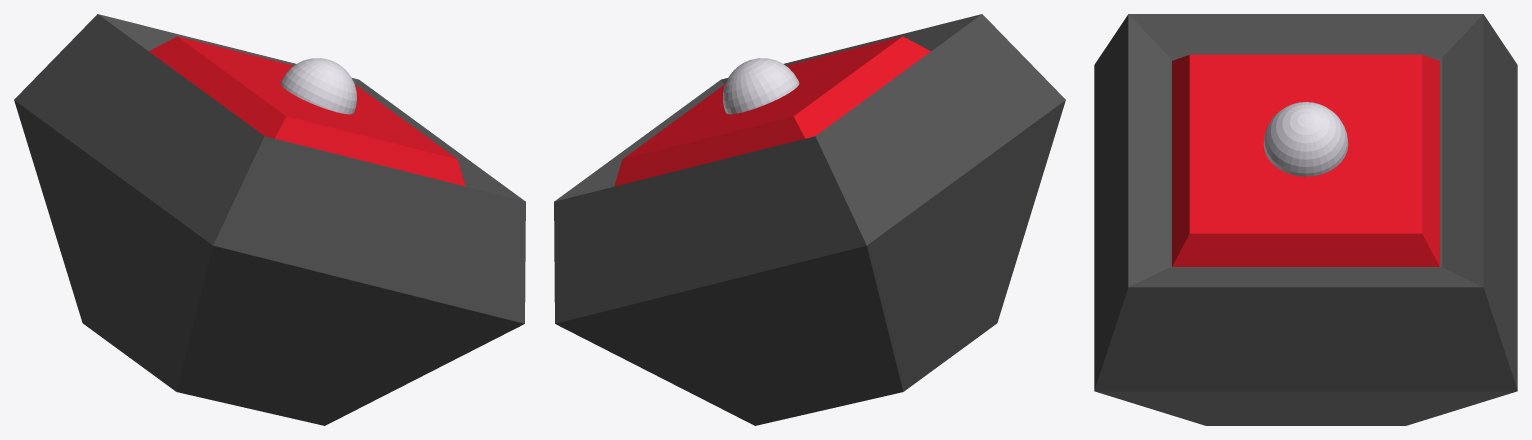
Rendered from buttonBall.fbx.
The picture shows the model from 3 angles, left to right: view 1: azimuth 30°, elevation 25°; view 2: azimuth 150°, elevation 25°; view 3: azimuth 270°, elevation 25°; orthographic projection. The views are drawn at different scales.
Parts seen in each view (by area): view 1: Cube, Cube.001, Sphere; view 2: Cube, Cube.001, Sphere; view 3: Cube, Cube.001, Sphere.
Part boxes in pixels (box(x1,y1,x2,y2)): Cube: box(14, 14, 525, 425); Cube.001: box(149, 36, 465, 186); Sphere: box(280, 58, 356, 114); Cube: box(554, 14, 1065, 425); Cube.001: box(614, 36, 930, 186); Sphere: box(723, 58, 799, 114); Cube: box(1094, 14, 1517, 425); Cube.001: box(1172, 54, 1439, 266); Sphere: box(1263, 102, 1348, 176).
Bounding box in the file's own units: 191 × 188 × 200.
